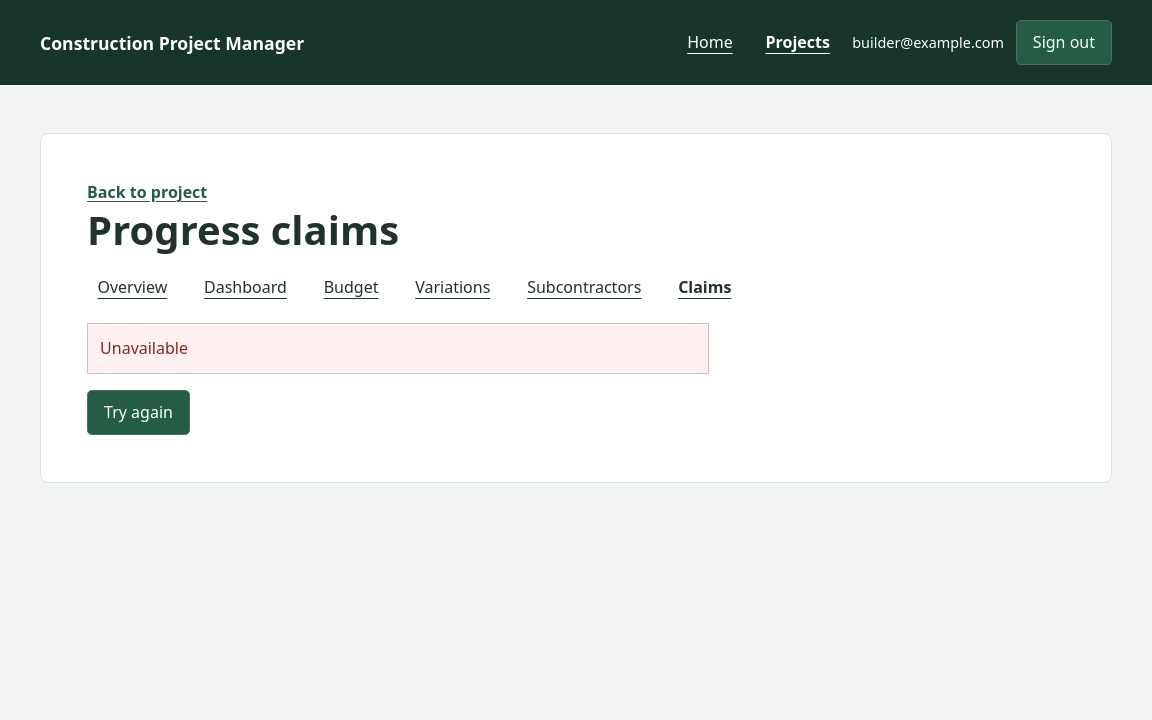
Test: shows list error and retries
Expected: the message reads "Unavailable", [100,337,188,359]
Click the button "Try again": (138,413) [87,390,190,435]
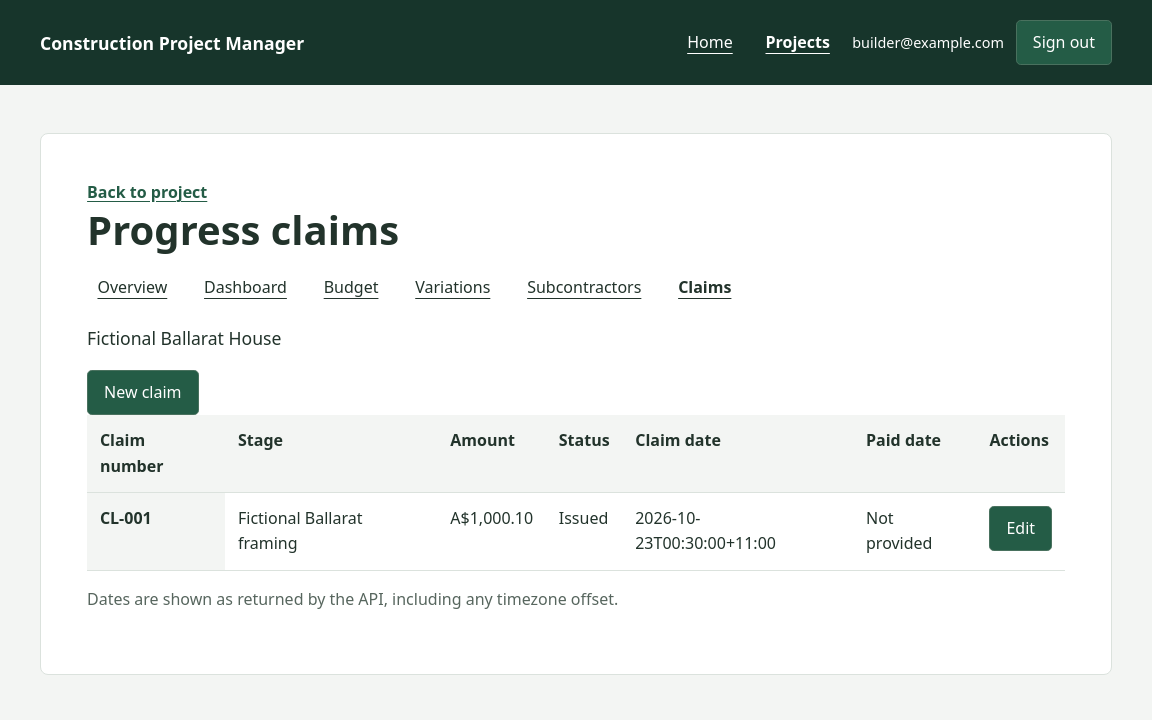
Expected: the column heading "CL-001" is shown, [87,493,225,570]
